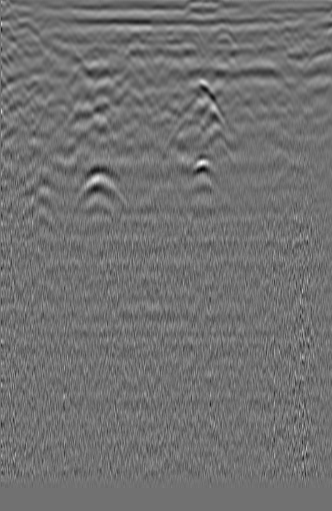상수: (282, 44, 318, 81)
오수: (0, 37, 30, 65)
우수: (154, 64, 190, 91)
